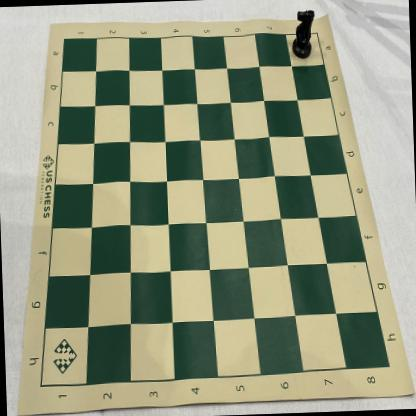knight: (290, 9, 315, 60)
